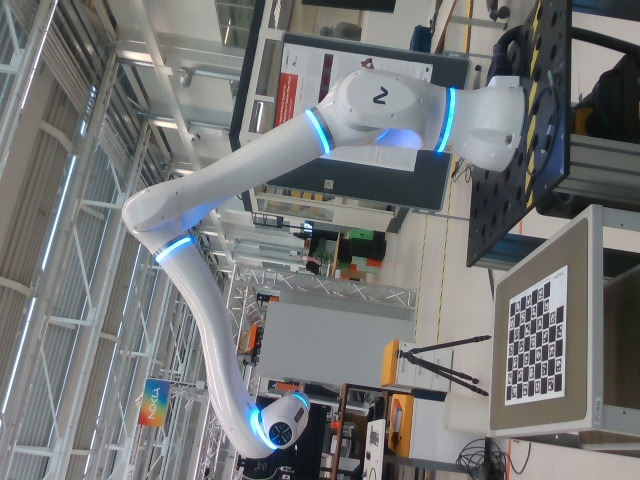Robot arm: (122, 70, 524, 459)
